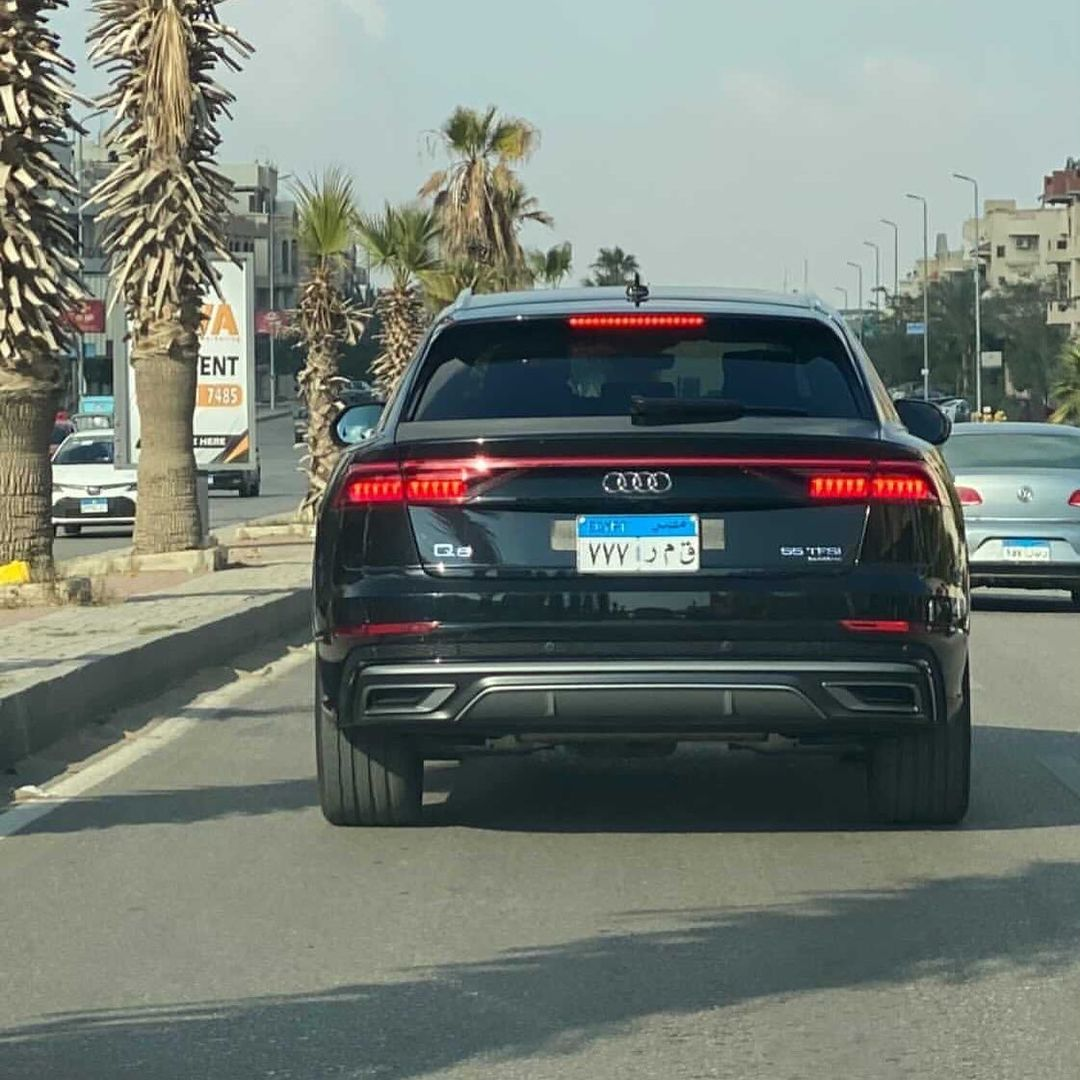carpl: (569, 511, 705, 572)
